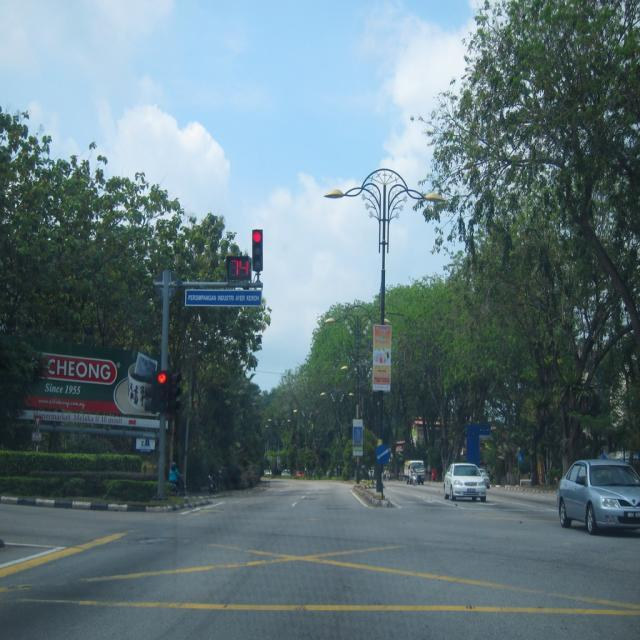traffic light: (155, 371, 170, 411), (252, 230, 262, 270)
